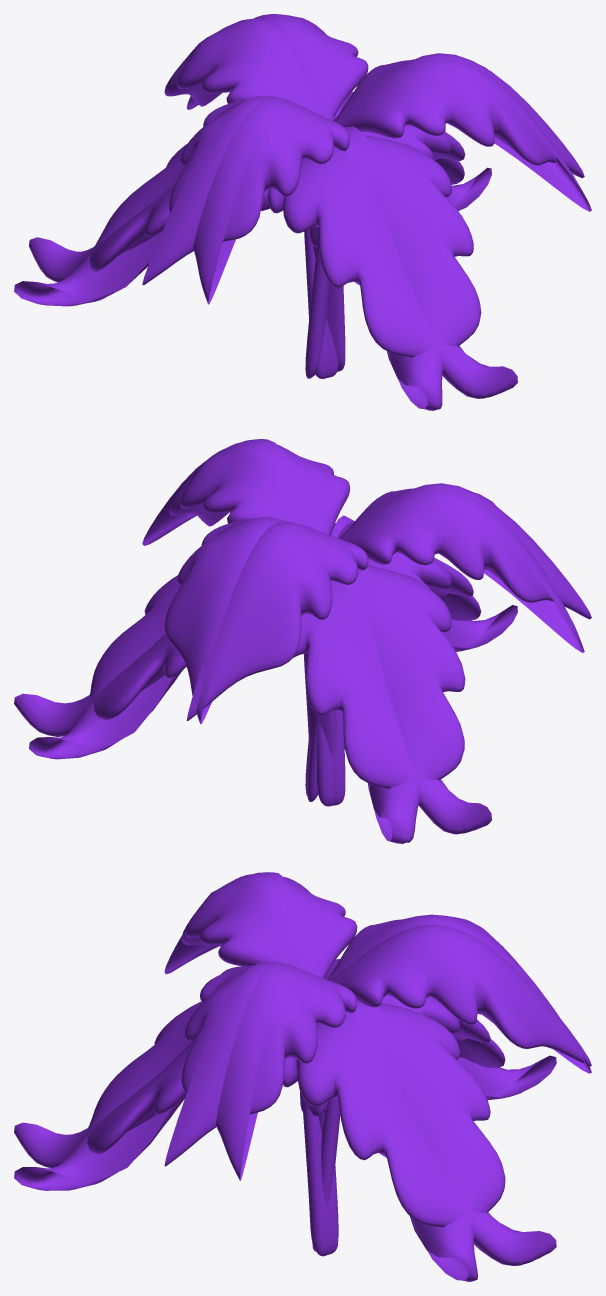
The model's file is Pflanze-lila.fbx.
The picture shows the model from 3 angles, top to bottom: view 1: azimuth 30°, elevation 25°; view 2: azimuth 150°, elevation 25°; view 3: azimuth 270°, elevation 25°; orthographic projection. The views are drawn at different scales.
Parts seen in each view (by area): view 1: Plane.053, Plane.049, Plane.050, Plane.051, Plane.054, Plane.052; view 2: Plane.054, Plane.050, Plane.052, Plane.051, Plane.049, Plane.053; view 3: Plane.054, Plane.052, Plane.050, Plane.051, Plane.049, Plane.053.
Part boxes in pixels (x1,y1,x2,y2): Plane.053: (268,126,517,410); Plane.049: (142,53,584,284); Plane.050: (164,14,368,120); Plane.051: (169,58,591,304); Plane.054: (29,91,465,378); Plane.052: (14,93,491,376); Plane.054: (29,565,465,843); Plane.050: (164,517,368,724); Plane.052: (14,568,491,834); Plane.051: (169,439,591,619); Plane.049: (142,441,584,652); Plane.053: (303,515,517,757); Plane.054: (283,959,556,1265); Plane.052: (318,994,505,1281); Plane.050: (323,914,591,1112); Plane.051: (164,874,357,1166); Plane.049: (181,872,310,1180); Plane.053: (14,1001,340,1251).
Size of the model in its own units: 76.24 by 48.05 by 77.15.
